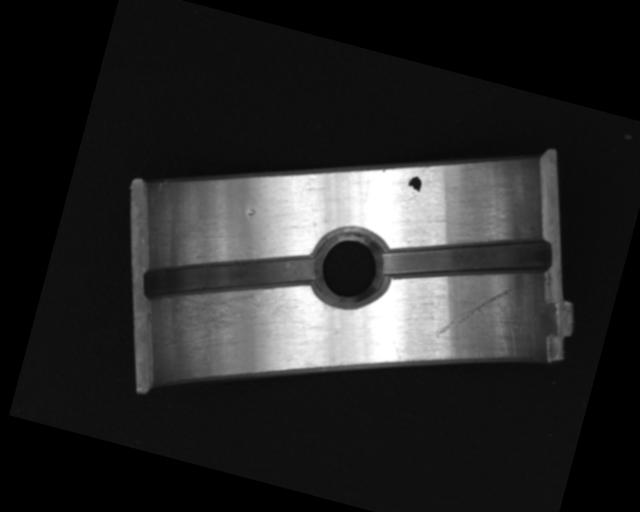blot: (404, 173, 424, 197)
bruise: (245, 206, 257, 218)
gap: (142, 217, 319, 336), (379, 201, 556, 315)
hole: (305, 219, 395, 313)
nick: (434, 272, 512, 353)
scratch: (151, 259, 305, 380)
